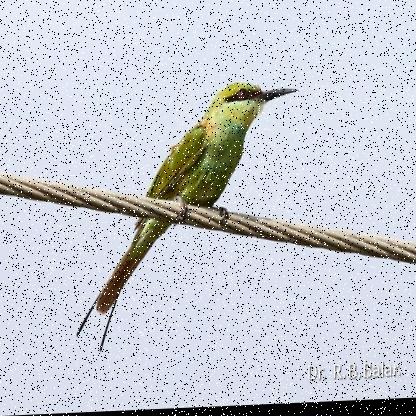Burung: (75, 82, 298, 353)
